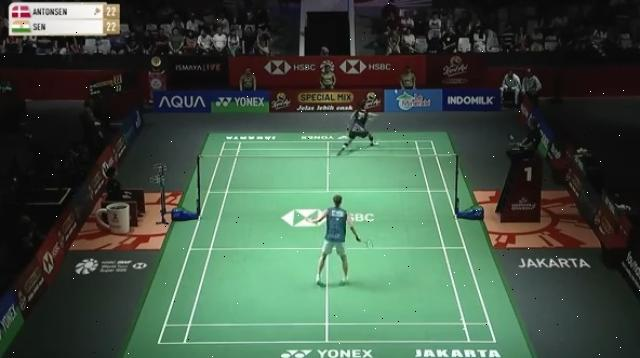Shuttlecock: (392, 85, 402, 95)
